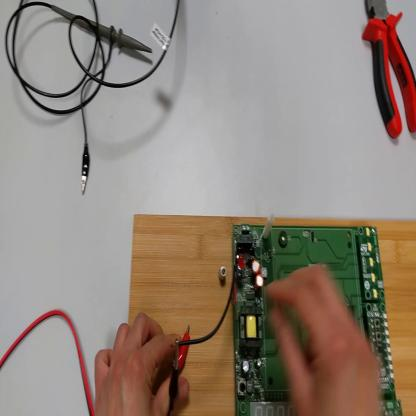hand: (267, 262, 381, 415), (94, 312, 189, 416)
low voltage board: (179, 225, 401, 414)
oscilloscope probe tip: (51, 2, 152, 53)
pliers: (363, 1, 416, 139)
working area: (126, 210, 416, 413)
